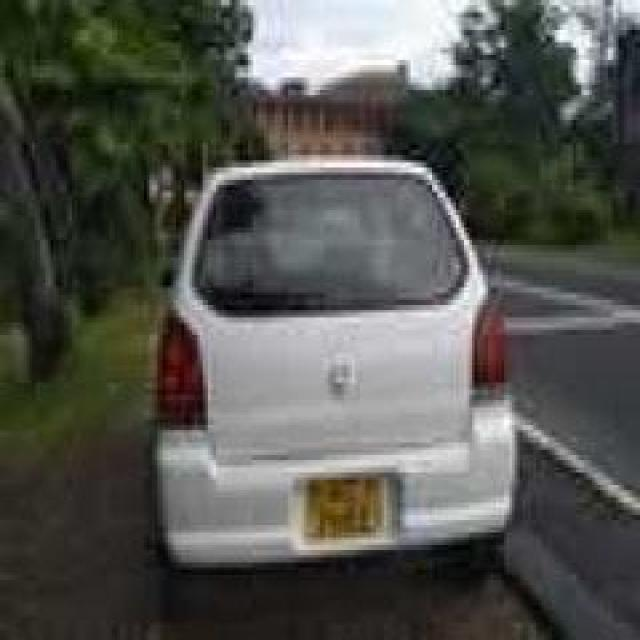car: (116, 96, 543, 626)
